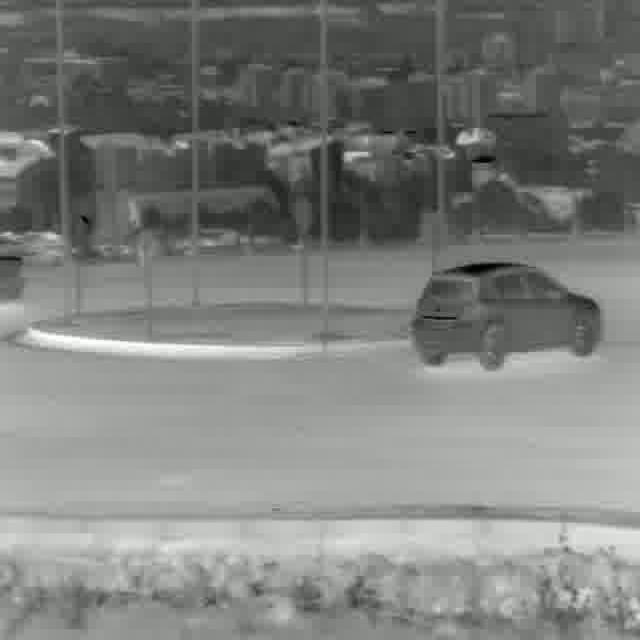Car: (411, 262, 601, 370), (0, 250, 24, 307)
